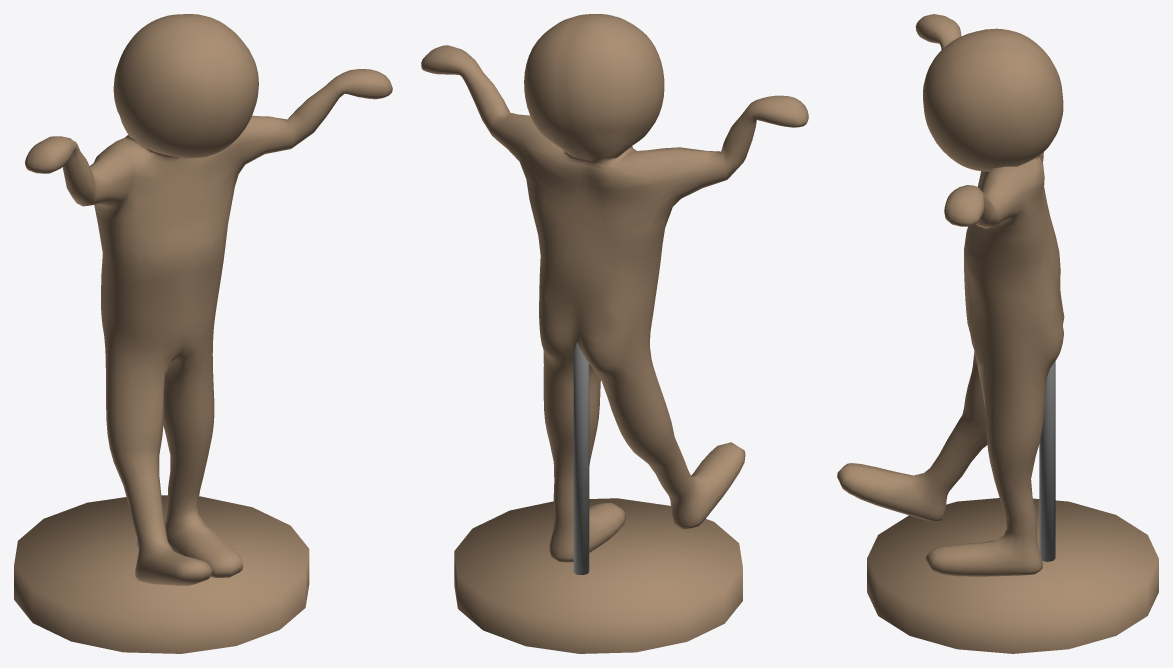
The model's file is Mannequin.fbx.
3 renders of one model, left to right at view 1: azimuth 30°, elevation 25°; view 2: azimuth 150°, elevation 25°; view 3: azimuth 270°, elevation 25°, orthographic. The views are drawn at different scales.
Parts seen in each view (by area): view 1: Mannequin; view 2: Mannequin; view 3: Mannequin.
Part boxes in pixels (left/top/right/bottom): Mannequin: left=14, top=14, right=392, bottom=653; Mannequin: left=421, top=14, right=808, bottom=653; Mannequin: left=837, top=14, right=1158, bottom=653.
Size of the model in its own units: 0.3502 by 0.5099 by 0.2639.
